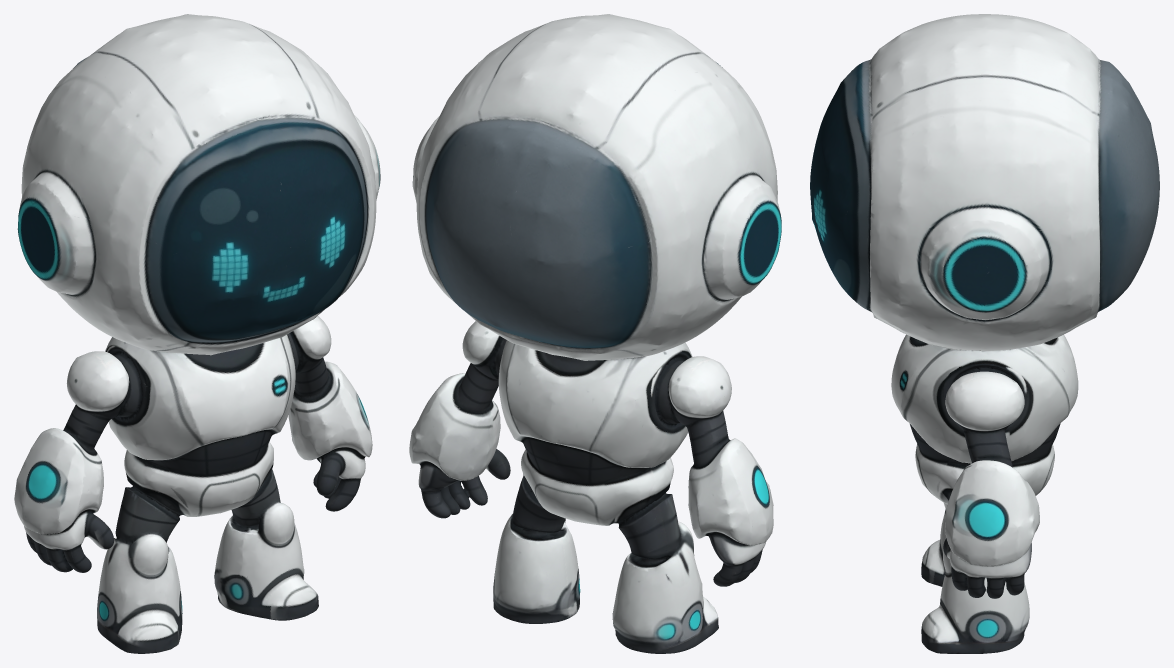
Rendered from vedika-M1.glb.
The picture shows the model from 3 angles, left to right: view 1: azimuth 30°, elevation 25°; view 2: azimuth 150°, elevation 25°; view 3: azimuth 270°, elevation 25°; orthographic projection. The views are drawn at different scales.
Bounding box in the file's own units: 1.18 × 1.9 × 1.04.
1 material, 1 textured.
